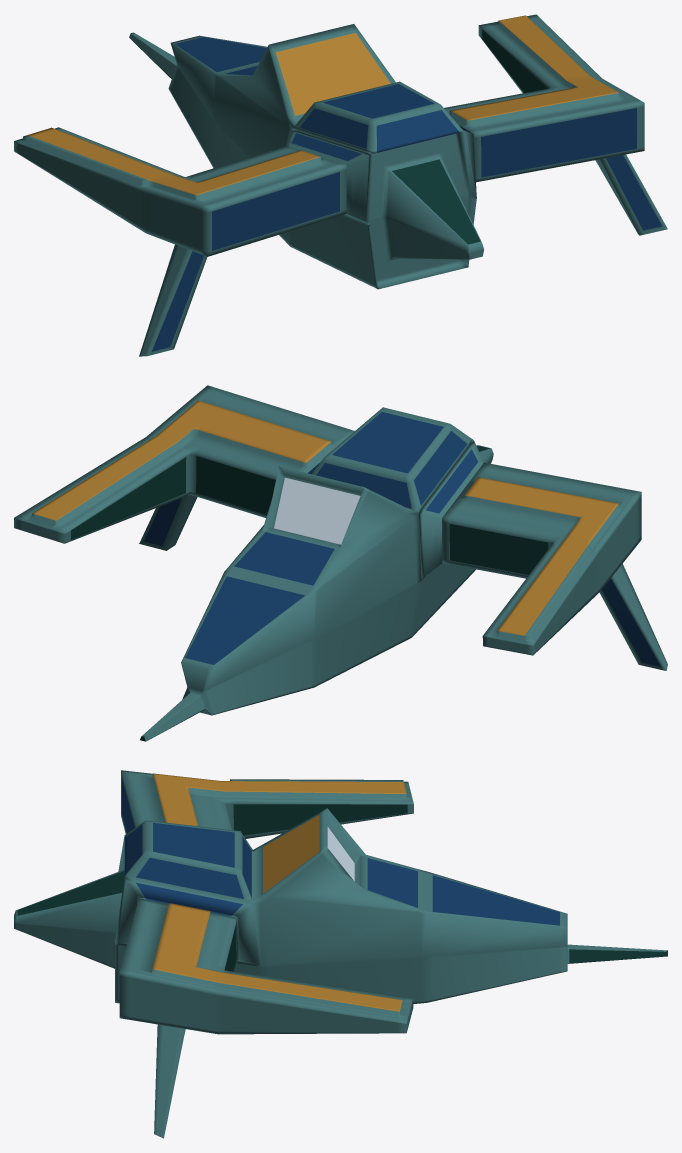
File: ship222.glb
3 views of the same model, one above another, from view 1: azimuth 30°, elevation 25°; view 2: azimuth 150°, elevation 25°; view 3: azimuth 270°, elevation 25° (orthographic). The views are drawn at different scales.
Visible parts, largest first — view 1: Cube.001; view 2: Cube.001; view 3: Cube.001.
Boxes of the visible parts, x1,y1,x2,y2 form: Cube.001: (14,14,667,356); Cube.001: (14,385,667,741); Cube.001: (14,770,667,1138).
Size of the model in its own units: 11.71 by 4.15 by 13.22.
